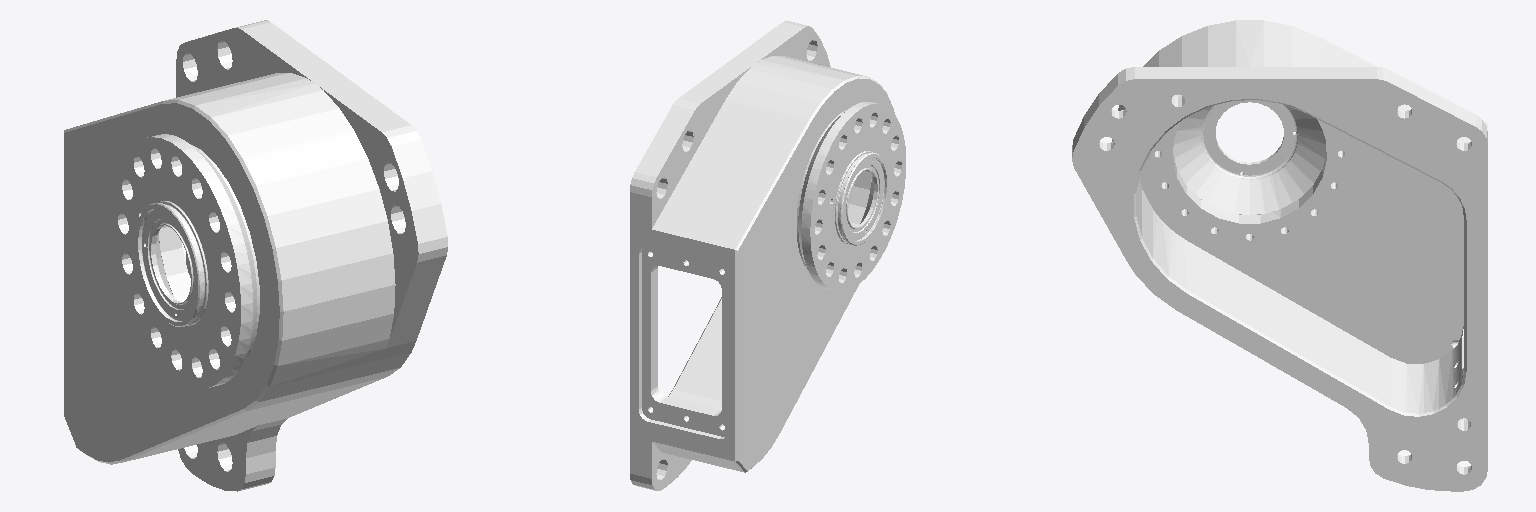
The robot description file, URDF, robot "modular-robot":
<?xml version="1.0"?>
<robot name="modular-robot">
	<link name="part0">
		<visual>
			<origin rpy="0.000000 0.000000 0.000000" xyz="0.000000 0.000000 0.000000"/>
			<geometry>
				<mesh filename="ModuleLibrary/B-116-90deg/B-116-90deg.stl"/>
			</geometry>
			<material name="color-0">
				<color rgba="1.000000 1.000000 1.000000 1.000000"/>
			</material>
		</visual>
		<collision>
			<origin rpy="0.000000 0.000000 0.000000" xyz="0.000000 0.000000 0.000000"/>
			<geometry>
				<mesh filename="ModuleLibrary/B-116-90deg/B-116-90deg.stl"/>
			</geometry>
		</collision>
	</link>
	<link name="part2">
		<inertial>
			<origin rpy="0.000000 0.000000 0.000000" xyz="0.000013 0.000017 -0.030590"/>
			<mass value="0.529000"/>
			<inertia ixx="0.001085" ixy="0.000000" ixz="0.000000" iyy="0.001085" iyz="0.000000" izz="0.000438"/>
		</inertial>
		<visual>
			<origin rpy="0.000000 -0.000000 1.570796" xyz="0.000000 0.000000 0.070500"/>
			<geometry>
				<mesh filename="ModuleLibrary/D116/D116_distal.stl"/>
			</geometry>
			<material name="color-2">
				<color rgba="0.100000 0.100000 0.500000 1.000000"/>
			</material>
		</visual>
		<collision>
			<origin rpy="0.000000 -0.000000 1.570796" xyz="0.000000 0.000000 0.070500"/>
			<geometry>
				<mesh filename="ModuleLibrary/D116/D116_distal.stl"/>
			</geometry>
		</collision>
	</link>
	<link name="part1">
		<inertial>
			<origin rpy="0.000000 0.000000 0.000000" xyz="0.012065 0.000185 0.075993"/>
			<mass value="3.511000"/>
			<inertia ixx="0.024117" ixy="0.000033" ixz="-0.003083" iyy="0.024717" iyz="-0.000043" izz="0.005563"/>
		</inertial>
		<visual>
			<origin rpy="0.000000 0.000000 0.000000" xyz="0.000000 0.000000 0.000000"/>
			<geometry>
				<mesh filename="ModuleLibrary/D116/D116_proximal.stl"/>
			</geometry>
			<material name="color-1">
				<color rgba="0.100000 0.100000 0.500000 1.000000"/>
			</material>
		</visual>
		<collision>
			<origin rpy="0.000000 0.000000 0.000000" xyz="0.000000 0.000000 0.000000"/>
			<geometry>
				<mesh filename="ModuleLibrary/D116/D116_proximal.stl"/>
			</geometry>
		</collision>
	</link>
	<link name="part4">
		<inertial>
			<origin rpy="0.000000 0.000000 0.000000" xyz="0.000013 0.000017 -0.030590"/>
			<mass value="0.529000"/>
			<inertia ixx="0.001085" ixy="0.000000" ixz="0.000000" iyy="0.001085" iyz="0.000000" izz="0.000438"/>
		</inertial>
		<visual>
			<origin rpy="0.000000 -0.000000 1.570796" xyz="0.000000 0.000000 0.070500"/>
			<geometry>
				<mesh filename="ModuleLibrary/D116/D116_distal.stl"/>
			</geometry>
			<material name="color-4">
				<color rgba="0.100000 0.100000 0.500000 1.000000"/>
			</material>
		</visual>
		<collision>
			<origin rpy="0.000000 -0.000000 1.570796" xyz="0.000000 0.000000 0.070500"/>
			<geometry>
				<mesh filename="ModuleLibrary/D116/D116_distal.stl"/>
			</geometry>
		</collision>
	</link>
	<link name="part3">
		<inertial>
			<origin rpy="0.000000 0.000000 0.000000" xyz="0.012065 0.000185 0.075993"/>
			<mass value="3.511000"/>
			<inertia ixx="0.024117" ixy="0.000033" ixz="-0.003083" iyy="0.024717" iyz="-0.000043" izz="0.005563"/>
		</inertial>
		<visual>
			<origin rpy="0.000000 0.000000 0.000000" xyz="0.000000 0.000000 0.000000"/>
			<geometry>
				<mesh filename="ModuleLibrary/D116/D116_proximal.stl"/>
			</geometry>
			<material name="color-3">
				<color rgba="0.100000 0.100000 0.500000 1.000000"/>
			</material>
		</visual>
		<collision>
			<origin rpy="0.000000 0.000000 0.000000" xyz="0.000000 0.000000 0.000000"/>
			<geometry>
				<mesh filename="ModuleLibrary/D116/D116_proximal.stl"/>
			</geometry>
		</collision>
	</link>
	<link name="part5">
		<inertial>
			<origin rpy="0.000000 0.000000 0.000000" xyz="0.118904 0.000000 0.046614"/>
			<mass value="1.283000"/>
			<inertia ixx="0.003695" ixy="0.000000" ixz="-0.006953" iyy="0.030420" iyz="0.000000" izz="0.027966"/>
		</inertial>
		<visual>
			<origin rpy="0.000000 0.000000 0.000000" xyz="0.000000 0.000000 0.000000"/>
			<geometry>
				<mesh filename="ModuleLibrary/L283-L-80-80/L283-L-80-80.stl"/>
			</geometry>
			<material name="color-5">
				<color rgba="1.000000 1.000000 1.000000 1.000000"/>
			</material>
		</visual>
		<collision>
			<origin rpy="0.000000 0.000000 0.000000" xyz="0.000000 0.000000 0.000000"/>
			<geometry>
				<mesh filename="ModuleLibrary/L283-L-80-80/L283-L-80-80.stl"/>
			</geometry>
		</collision>
	</link>
	<link name="part7">
		<inertial>
			<origin rpy="0.000000 0.000000 0.000000" xyz="0.000000 0.000000 -0.022500"/>
			<mass value="0.282000"/>
			<inertia ixx="0.000287" ixy="0.000000" ixz="-0.000000" iyy="0.000287" iyz="-0.000000" izz="0.000122"/>
		</inertial>
	</link>
	<link name="part6">
		<inertial>
			<origin rpy="0.000000 0.000000 0.000000" xyz="0.000620 0.000180 0.058200"/>
			<mass value="1.780000"/>
			<inertia ixx="0.007580" ixy="0.000019" ixz="-0.000074" iyy="0.008140" iyz="-0.000016" izz="0.002150"/>
		</inertial>
		<visual>
			<origin rpy="0.000000 0.000000 0.000000" xyz="0.000000 0.000000 0.000000"/>
			<geometry>
				<mesh filename="ModuleLibrary/D86/D86.stl"/>
			</geometry>
			<material name="color-6">
				<color rgba="0.100000 0.100000 0.500000 1.000000"/>
			</material>
		</visual>
		<collision>
			<origin rpy="0.000000 0.000000 0.000000" xyz="0.000000 0.000000 0.000000"/>
			<geometry>
				<mesh filename="ModuleLibrary/D86/D86.stl"/>
			</geometry>
		</collision>
	</link>
	<link name="part9">
		<inertial>
			<origin rpy="0.000000 0.000000 0.000000" xyz="0.000000 0.000000 -0.022500"/>
			<mass value="0.282000"/>
			<inertia ixx="0.000287" ixy="0.000000" ixz="-0.000000" iyy="0.000287" iyz="-0.000000" izz="0.000122"/>
		</inertial>
	</link>
	<link name="part8">
		<inertial>
			<origin rpy="0.000000 0.000000 0.000000" xyz="0.000620 0.000180 0.058200"/>
			<mass value="1.780000"/>
			<inertia ixx="0.007580" ixy="0.000019" ixz="-0.000074" iyy="0.008140" iyz="-0.000016" izz="0.002150"/>
		</inertial>
		<visual>
			<origin rpy="0.000000 0.000000 0.000000" xyz="0.000000 0.000000 0.000000"/>
			<geometry>
				<mesh filename="ModuleLibrary/D86/D86.stl"/>
			</geometry>
			<material name="color-8">
				<color rgba="0.100000 0.100000 0.500000 1.000000"/>
			</material>
		</visual>
		<collision>
			<origin rpy="0.000000 0.000000 0.000000" xyz="0.000000 0.000000 0.000000"/>
			<geometry>
				<mesh filename="ModuleLibrary/D86/D86.stl"/>
			</geometry>
		</collision>
	</link>
	<link name="part10">
		<inertial>
			<origin rpy="0.000000 0.000000 0.000000" xyz="0.000010 -0.000010 0.201369"/>
			<mass value="1.200000"/>
			<inertia ixx="0.063721" ixy="0.000000" ixz="0.000000" iyy="0.063721" iyz="0.000000" izz="0.001004"/>
		</inertial>
		<visual>
			<origin rpy="0.000000 0.000000 0.000000" xyz="0.000000 0.000000 0.000000"/>
			<geometry>
				<mesh filename="ModuleLibrary/L400-I-80-80/L400-I-80-80.stl"/>
			</geometry>
			<material name="color-10">
				<color rgba="1.000000 1.000000 1.000000 1.000000"/>
			</material>
		</visual>
		<collision>
			<origin rpy="0.000000 0.000000 0.000000" xyz="0.000000 0.000000 0.000000"/>
			<geometry>
				<mesh filename="ModuleLibrary/L400-I-80-80/L400-I-80-80.stl"/>
			</geometry>
		</collision>
	</link>
	<link name="part12">
		<inertial>
			<origin rpy="0.000000 0.000000 0.000000" xyz="0.000000 0.000000 -0.022500"/>
			<mass value="0.282000"/>
			<inertia ixx="0.000287" ixy="0.000000" ixz="-0.000000" iyy="0.000287" iyz="-0.000000" izz="0.000122"/>
		</inertial>
	</link>
	<link name="part11">
		<inertial>
			<origin rpy="0.000000 0.000000 0.000000" xyz="0.000620 0.000180 0.058200"/>
			<mass value="1.780000"/>
			<inertia ixx="0.007580" ixy="0.000019" ixz="-0.000074" iyy="0.008140" iyz="-0.000016" izz="0.002150"/>
		</inertial>
		<visual>
			<origin rpy="0.000000 0.000000 0.000000" xyz="0.000000 0.000000 0.000000"/>
			<geometry>
				<mesh filename="ModuleLibrary/D86/D86.stl"/>
			</geometry>
			<material name="color-11">
				<color rgba="0.100000 0.100000 0.500000 1.000000"/>
			</material>
		</visual>
		<collision>
			<origin rpy="0.000000 0.000000 0.000000" xyz="0.000000 0.000000 0.000000"/>
			<geometry>
				<mesh filename="ModuleLibrary/D86/D86.stl"/>
			</geometry>
		</collision>
	</link>
	<link name="tool_dummy">
		<inertial>
			<origin rpy="0.000000 0.000000 0.000000" xyz="0.000620 0.000180 0.058200"/>
			<mass value="0.000000"/>
			<inertia ixx="0.000000" ixy="0.000000" ixz="0.000000" iyy="0.000000" iyz="0.000000" izz="0.000000"/>
		</inertial>
	</link>
	<link name="part14">
		<inertial>
			<origin rpy="0.000000 0.000000 0.000000" xyz="0.000000 0.000000 -0.022500"/>
			<mass value="0.282000"/>
			<inertia ixx="0.000287" ixy="0.000000" ixz="-0.000000" iyy="0.000287" iyz="-0.000000" izz="0.000122"/>
		</inertial>
	</link>
	<link name="part13">
		<inertial>
			<origin rpy="0.000000 0.000000 0.000000" xyz="0.000620 0.000180 0.058200"/>
			<mass value="1.780000"/>
			<inertia ixx="0.007580" ixy="0.000019" ixz="-0.000074" iyy="0.008140" iyz="-0.000016" izz="0.002150"/>
		</inertial>
		<visual>
			<origin rpy="0.000000 0.000000 0.000000" xyz="0.000000 0.000000 0.000000"/>
			<geometry>
				<mesh filename="ModuleLibrary/D86/D86.stl"/>
			</geometry>
			<material name="color-13">
				<color rgba="0.100000 0.100000 0.500000 1.000000"/>
			</material>
		</visual>
		<collision>
			<origin rpy="0.000000 0.000000 0.000000" xyz="0.000000 0.000000 0.000000"/>
			<geometry>
				<mesh filename="ModuleLibrary/D86/D86.stl"/>
			</geometry>
		</collision>
	</link>
	<joint name="part0_part1" type="fixed">
		<origin xyz="-0.070000 0.000000 0.000000" rpy="-0.000000 -1.570796 0.000000"/>
		<parent link="part0"/>
		<child link="part1"/>
		<axis xyz="0.000000 0.000000 0.000000"/>
	</joint>
	<joint name="part2_part3" type="fixed">
		<origin xyz="0.000000 0.000000 0.070500" rpy="0.000000 -0.000000 1.570796"/>
		<parent link="part2"/>
		<child link="part3"/>
		<axis xyz="0.000000 0.000000 0.000000"/>
	</joint>
	<joint name="joint0" type="revolute">
		<origin xyz="0.000000 0.000000 0.082000" rpy="1.570796 -0.000000 1.570796"/>
		<parent link="part1"/>
		<child link="part2"/>
		<axis xyz="0.000000 0.000000 1.000000"/>
		<limit effort="3.141593" velocity="4.390000" lower="-4.712400" upper="4.712400"/>
	</joint>
	<joint name="part4_part5" type="fixed">
		<origin xyz="0.000000 0.000000 0.070500" rpy="0.000000 -0.000000 1.570796"/>
		<parent link="part4"/>
		<child link="part5"/>
		<axis xyz="0.000000 0.000000 0.000000"/>
	</joint>
	<joint name="joint1" type="revolute">
		<origin xyz="0.000000 0.000000 0.082000" rpy="1.570796 -0.000000 1.570796"/>
		<parent link="part3"/>
		<child link="part4"/>
		<axis xyz="0.000000 0.000000 1.000000"/>
		<limit effort="3.141593" velocity="4.390000" lower="-4.712400" upper="4.712400"/>
	</joint>
	<joint name="part5_part6" type="fixed">
		<origin xyz="0.286000 0.000000 0.053000" rpy="0.000000 1.570796 0.000000"/>
		<parent link="part5"/>
		<child link="part6"/>
		<axis xyz="0.000000 0.000000 0.000000"/>
	</joint>
	<joint name="part7_part8" type="fixed">
		<origin xyz="0.000000 0.000000 0.055500" rpy="0.000000 -0.000000 1.570796"/>
		<parent link="part7"/>
		<child link="part8"/>
		<axis xyz="0.000000 0.000000 0.000000"/>
	</joint>
	<joint name="joint2" type="revolute">
		<origin xyz="0.000000 0.000000 0.064000" rpy="1.570796 -0.000000 1.570796"/>
		<parent link="part6"/>
		<child link="part7"/>
		<axis xyz="0.000000 0.000000 1.000000"/>
		<limit effort="3.141593" velocity="7.560000" lower="-4.712400" upper="4.712400"/>
	</joint>
	<joint name="part9_part10" type="fixed">
		<origin xyz="0.000000 0.000000 0.055500" rpy="0.000000 -0.000000 1.570796"/>
		<parent link="part9"/>
		<child link="part10"/>
		<axis xyz="0.000000 0.000000 0.000000"/>
	</joint>
	<joint name="joint3" type="revolute">
		<origin xyz="0.000000 0.000000 0.064000" rpy="1.570796 -0.000000 1.570796"/>
		<parent link="part8"/>
		<child link="part9"/>
		<axis xyz="0.000000 0.000000 1.000000"/>
		<limit effort="3.141593" velocity="7.560000" lower="-4.712400" upper="4.712400"/>
	</joint>
	<joint name="part10_part11" type="fixed">
		<origin xyz="0.000000 0.000000 0.400000" rpy="0.000000 -0.000000 0.000000"/>
		<parent link="part10"/>
		<child link="part11"/>
		<axis xyz="0.000000 0.000000 0.000000"/>
	</joint>
	<joint name="part12_part13" type="fixed">
		<origin xyz="0.000000 0.000000 0.055500" rpy="0.000000 -0.000000 1.570796"/>
		<parent link="part12"/>
		<child link="part13"/>
		<axis xyz="0.000000 0.000000 0.000000"/>
	</joint>
	<joint name="joint4" type="revolute">
		<origin xyz="0.000000 0.000000 0.064000" rpy="1.570796 -0.000000 1.570796"/>
		<parent link="part11"/>
		<child link="part12"/>
		<axis xyz="0.000000 0.000000 1.000000"/>
		<limit effort="3.141593" velocity="7.560000" lower="-4.712400" upper="4.712400"/>
	</joint>
	<joint name="part14_tool_dummy" type="fixed">
		<origin xyz="0.000000 0.000000 0.055500" rpy="0.000000 -0.000000 1.570796"/>
		<parent link="part14"/>
		<child link="tool_dummy"/>
		<axis xyz="0.000000 0.000000 0.000000"/>
	</joint>
	<joint name="joint5" type="revolute">
		<origin xyz="0.000000 0.000000 0.064000" rpy="1.570796 -0.000000 1.570796"/>
		<parent link="part13"/>
		<child link="part14"/>
		<axis xyz="0.000000 0.000000 1.000000"/>
		<limit effort="3.141593" velocity="7.560000" lower="-4.712400" upper="4.712400"/>
	</joint>
</robot>

--- What the picture shows (computed from the rendered views, not written in the file) ---
The picture shows the robot from 3 angles, left to right: view 1: azimuth 30°, elevation 25°; view 2: azimuth 150°, elevation 25°; view 3: azimuth 270°, elevation 25°; orthographic projection.
Model modular-robot with 16 links and 15 joints (6 revolute, 9 fixed), rooted at part0, posed every joint at zero.
Links seen in each view (by area): view 1: part0; view 2: part0; view 3: part0.
Boxes of the visible links, x1,y1,x2,y2 form: part0: (64,20,447,491); part0: (630,21,905,490); part0: (1072,20,1487,491).
Size in the robot's own frame: 0.074 by 0.1746 by 0.191 metres.
Meshes: 6 distinct files referenced, 1 mesh visuals loaded (1 binary STL); not drawn: 10 (reference not matched to a file when rendering).